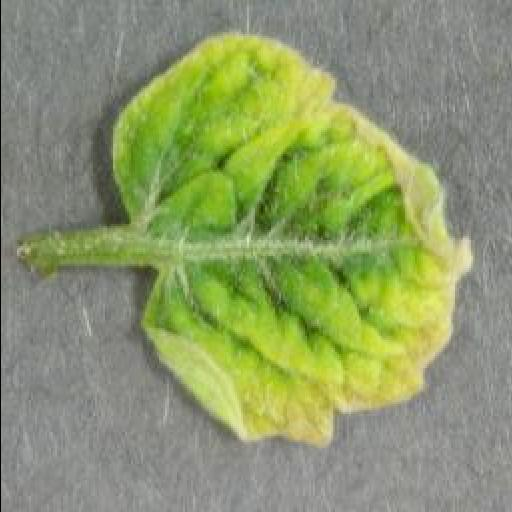disease_tomato: (108, 34, 474, 450)
